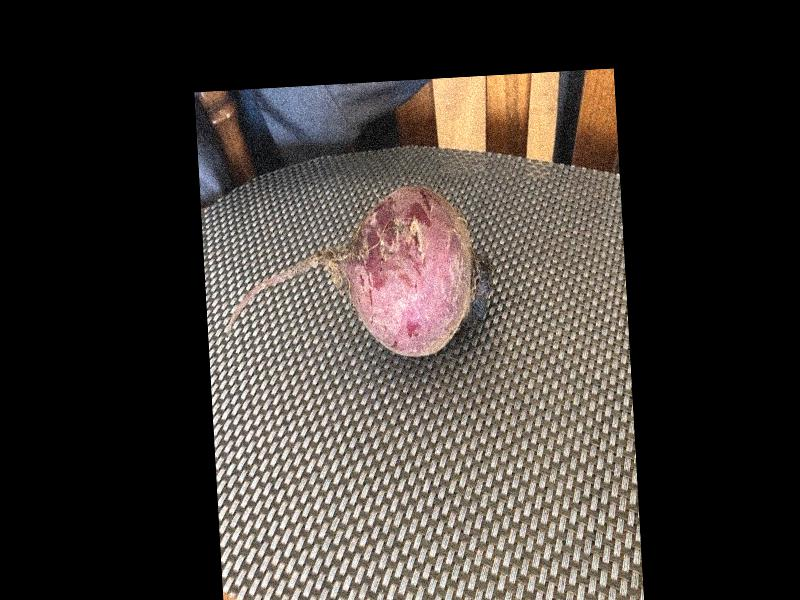Beet: (222, 179, 499, 365)
